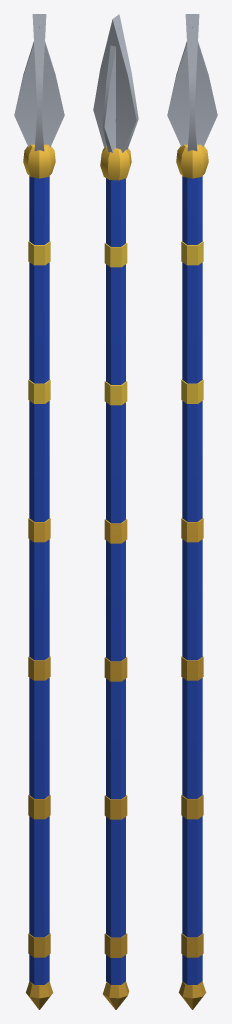
File: Weapon_RoyalLance.fbx
3 views of the same model, side by side, from view 1: azimuth 90°, elevation 25°; view 2: azimuth 150°, elevation 25°; view 3: azimuth 270°, elevation 25° (orthographic).
Visible parts, largest first — view 1: RoyalLance; view 2: RoyalLance; view 3: RoyalLance.
Boxes of the visible parts, box(x1,y1,x2,y2) form: RoyalLance: box(14, 14, 64, 1009); RoyalLance: box(93, 14, 138, 1009); RoyalLance: box(167, 14, 217, 1009).
Size of the model in its own units: 0.08 by 1.75 by 0.08.
